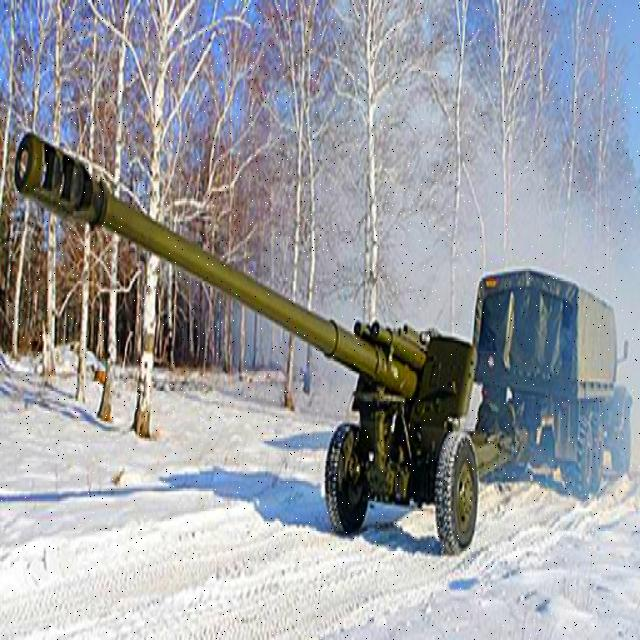ART: (14, 129, 478, 555)
TRUCK: (472, 264, 636, 494)
